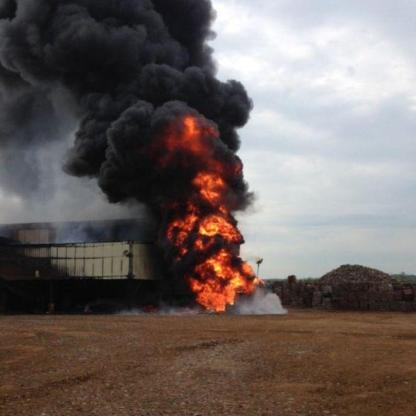fire: (154, 106, 268, 316)
